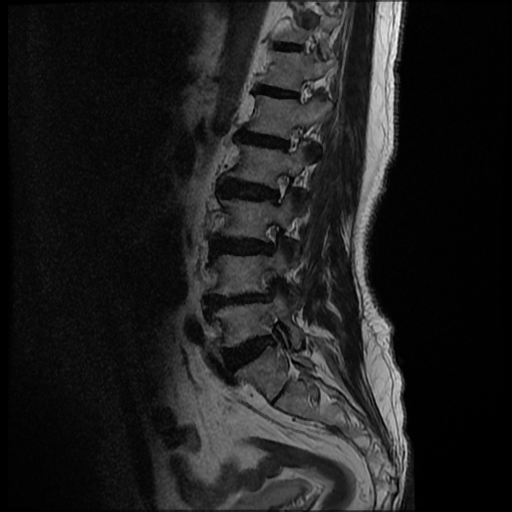LFS0: (275, 119, 310, 163), (263, 167, 297, 210)
LFS1: (252, 216, 290, 258)
